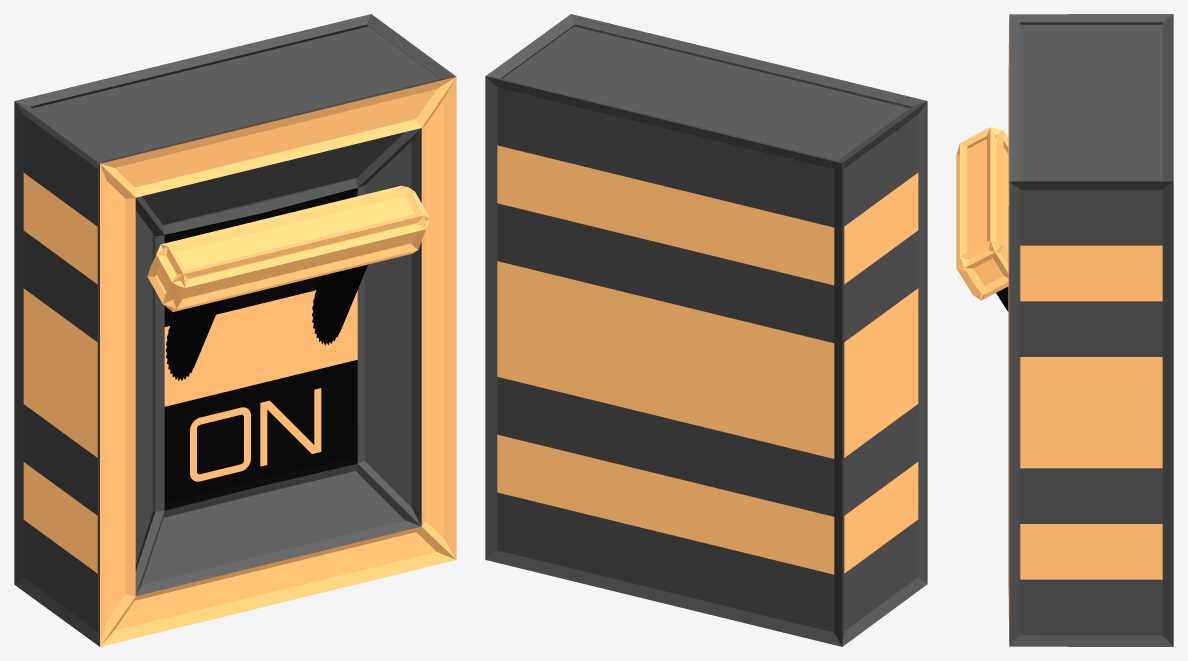
The model's file is Spak.gltf.
3 renders of one model, left to right at view 1: azimuth 30°, elevation 25°; view 2: azimuth 150°, elevation 25°; view 3: azimuth 270°, elevation 25°, orthographic. The views are drawn at different scales.
Visible parts, largest first — view 1: LeverAttachement, Handtag; view 2: LeverAttachement; view 3: LeverAttachement, Handtag.
Boxes of the visible parts, left/top/right/bottom form: LeverAttachement: left=14, top=14, right=456, bottom=646; Handtag: left=147, top=185, right=430, bottom=380; LeverAttachement: left=485, top=14, right=927, bottom=646; LeverAttachement: left=1008, top=14, right=1173, bottom=646; Handtag: left=956, top=127, right=1008, bottom=311.
Size of the model in its own units: 0.8493 by 1.1 by 0.4652.
